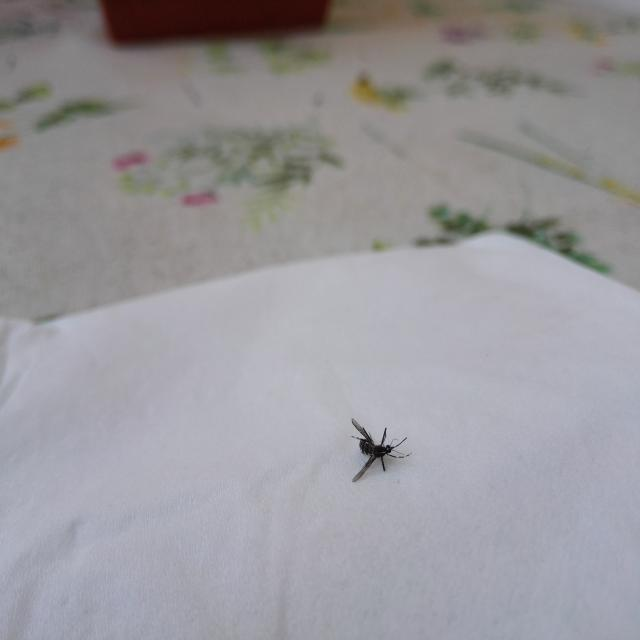albopictus: (349, 412, 411, 483)
